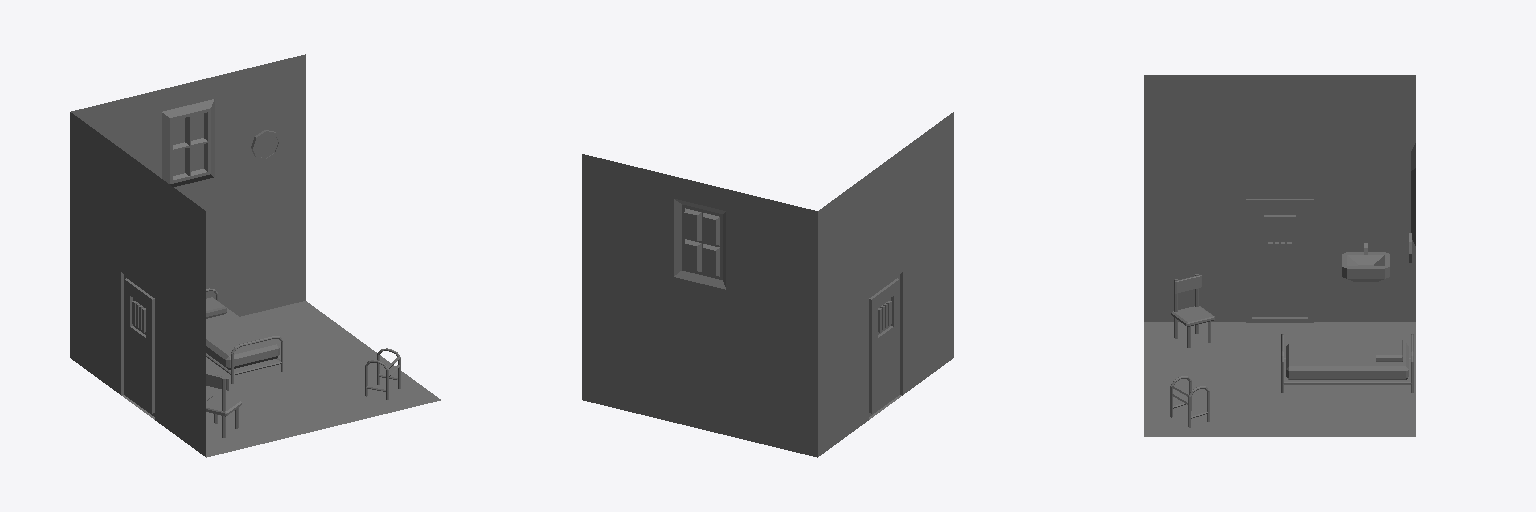
The model's file is manicomio.obj.
The picture shows the model from 3 angles: view 1: azimuth 30°, elevation 25°; view 2: azimuth 150°, elevation 25°; view 3: azimuth 270°, elevation 25°; orthographic projection.
Visible parts, largest first — view 1: polySurface4 polySurface3 polySurface1, polySurface30, polySurface47, polySurface29, polySurface52; view 2: polySurface4 polySurface3 polySurface1; view 3: polySurface4 polySurface3 polySurface1, polySurface30, pCube2, polySurface47, polySurface29.
Part boxes in pixels (x1,y1,x2,y2): polySurface4 polySurface3 polySurface1: (70,54,440,457); polySurface30: (206,288,282,383); polySurface47: (206,373,241,437); polySurface29: (365,348,400,399); polySurface52: (251,130,279,159); polySurface4 polySurface3 polySurface1: (582,112,953,457); polySurface4 polySurface3 polySurface1: (1144,75,1415,436); polySurface30: (1281,334,1413,392); pCube2: (1342,243,1389,281); polySurface47: (1171,274,1214,347); polySurface29: (1170,376,1209,427).
Bounding box in the file's own units: 23.74 × 23.73 × 23.73.